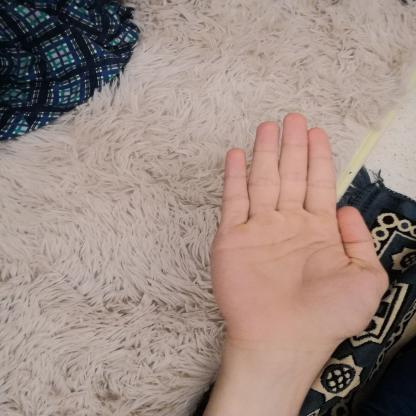SEEN: (198, 105, 400, 358)
